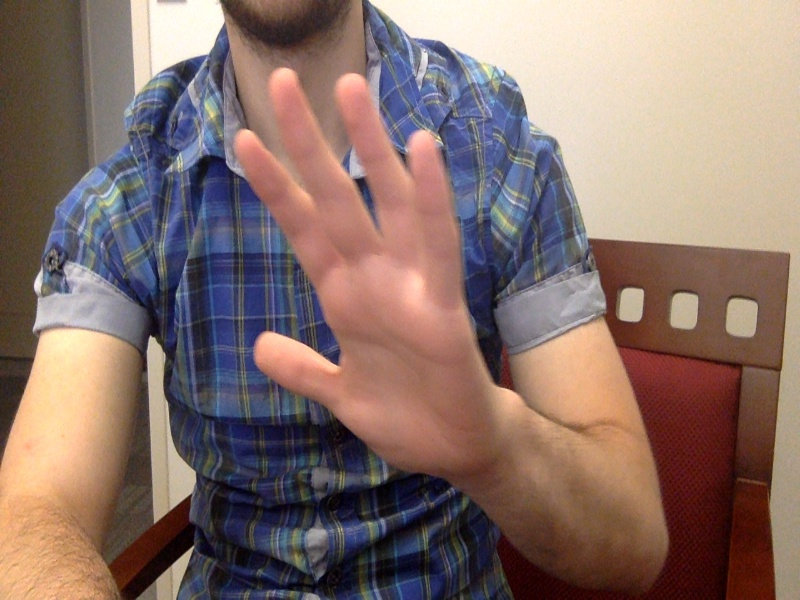5-hand: (235, 68, 507, 482)
